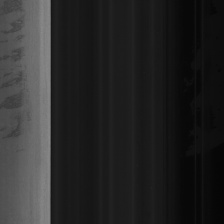water_spot: (0, 0, 33, 148)
